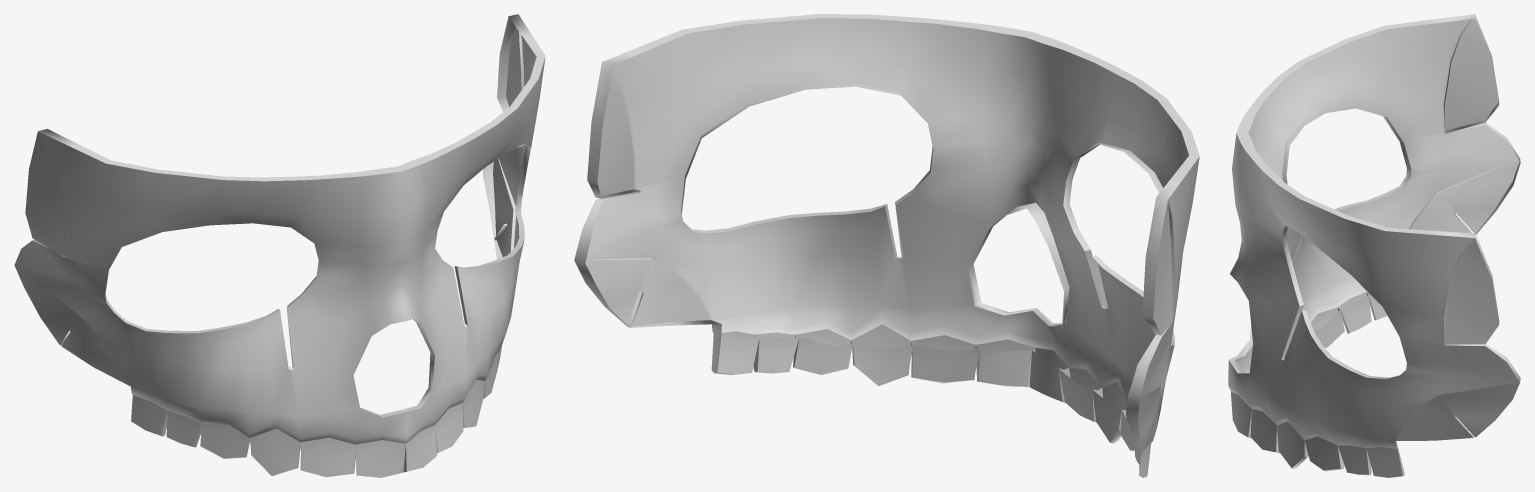
File: SkullMask.glb
3 views of the same model, side by side, from view 1: azimuth 30°, elevation 25°; view 2: azimuth 150°, elevation 25°; view 3: azimuth 270°, elevation 25° (orthographic). The views are drawn at different scales.
Visible parts, largest first — view 1: SkullMask; view 2: SkullMask; view 3: SkullMask.
Boxes of the visible parts, box(x1,y1,x2,y2) form: SkullMask: box(14, 14, 545, 477); SkullMask: box(574, 14, 1199, 477); SkullMask: box(1228, 14, 1520, 477).
Bounding box in the file's own units: 0.1739 × 0.1075 × 0.0959.
Materials: 1 (1 with a texture image).
